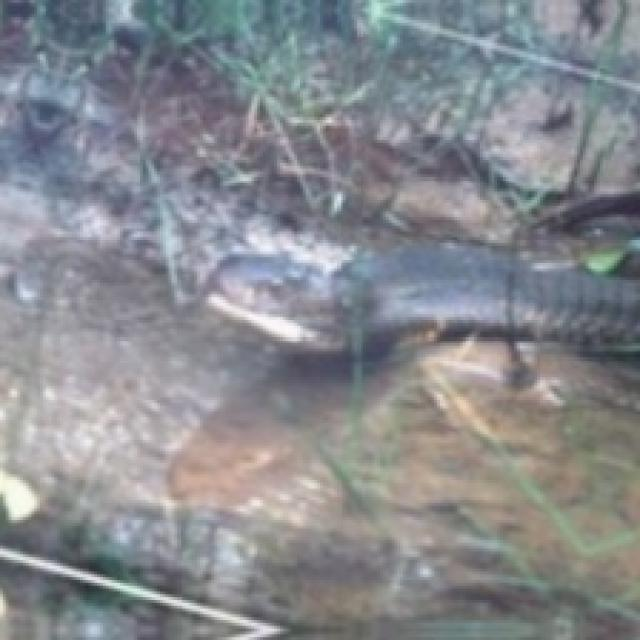king cobra: (206, 243, 637, 354)
